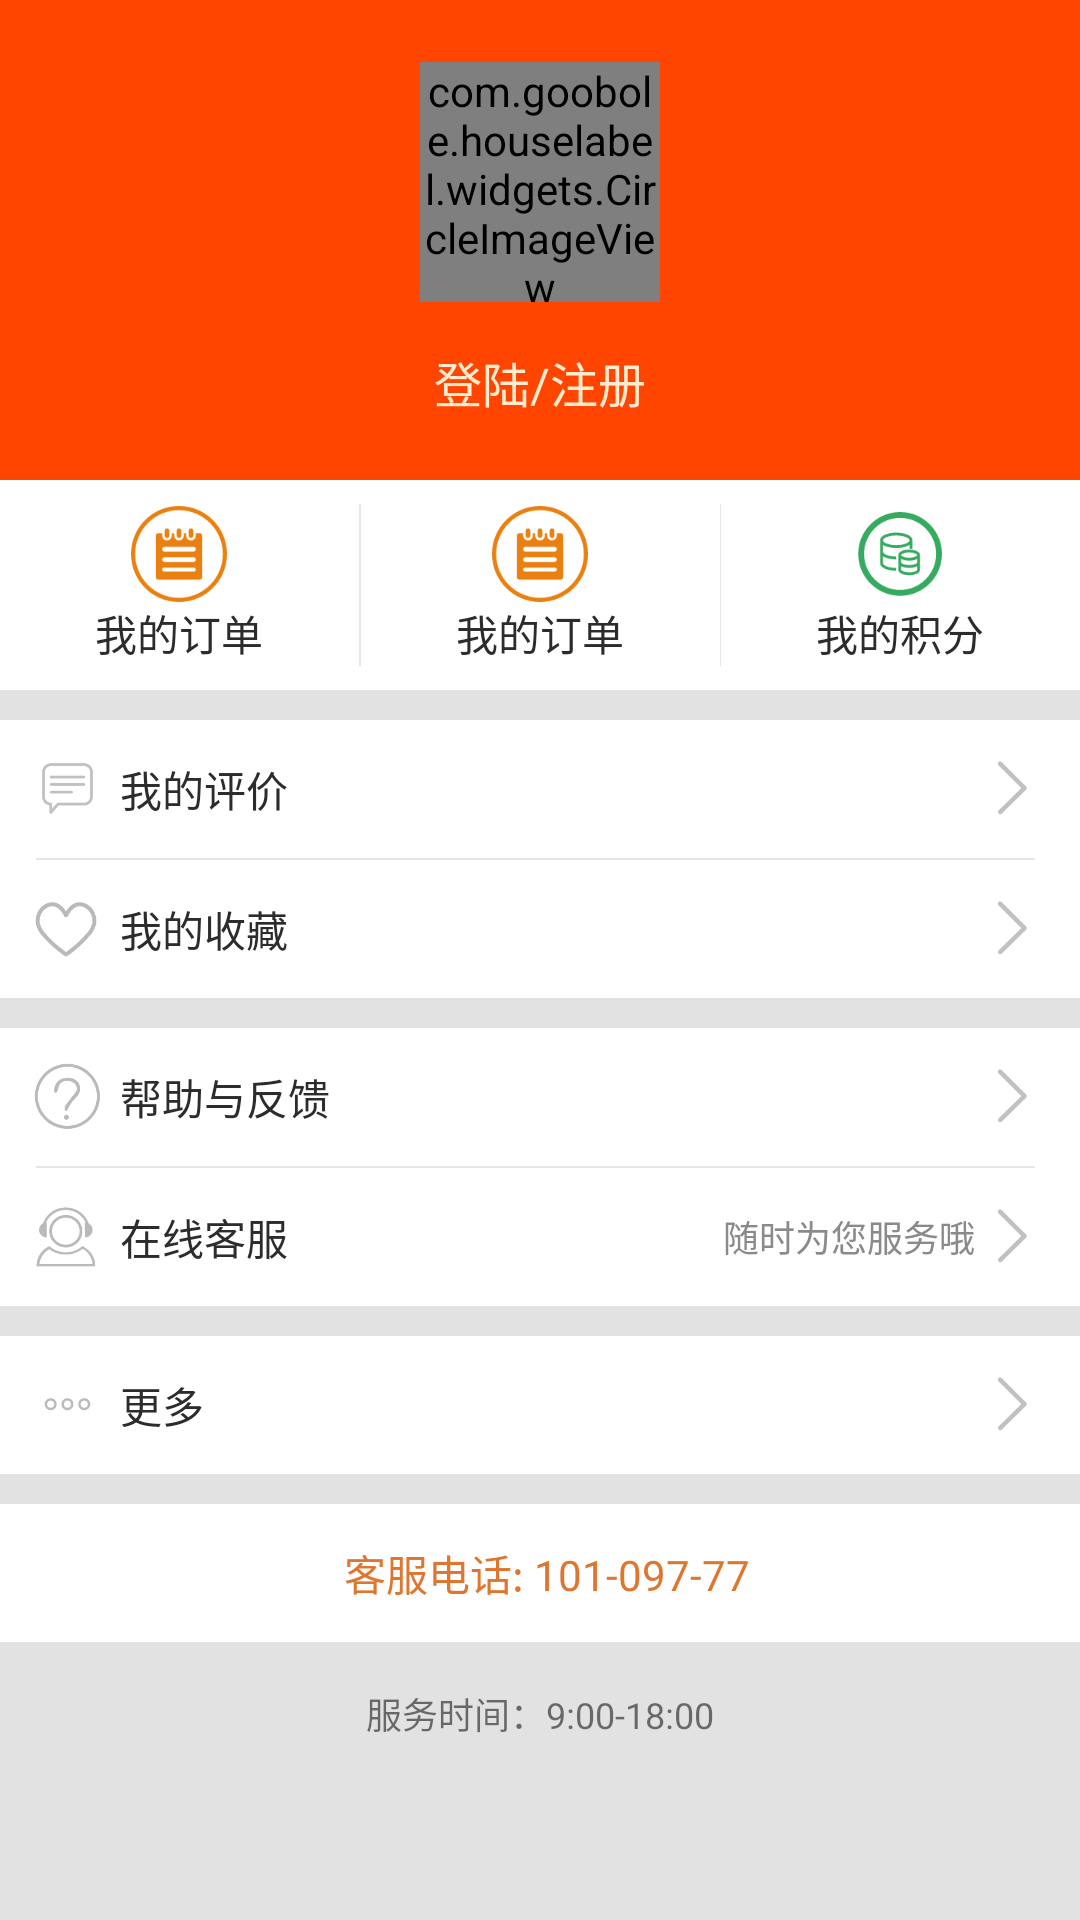

Icons on this 1080*1920 Android screen, each with its box as box(x1, y1, x2, y2):
arrow right: box(998, 761, 1027, 814), box(998, 901, 1027, 954), box(998, 1069, 1027, 1122), box(998, 1209, 1027, 1262), box(998, 1377, 1027, 1430)
me collection: box(36, 902, 96, 957)
me custom service: box(36, 1207, 95, 1266)
me evaluate: box(42, 763, 93, 814)
me help: box(35, 1064, 100, 1129)
me more: box(45, 1398, 90, 1410)
